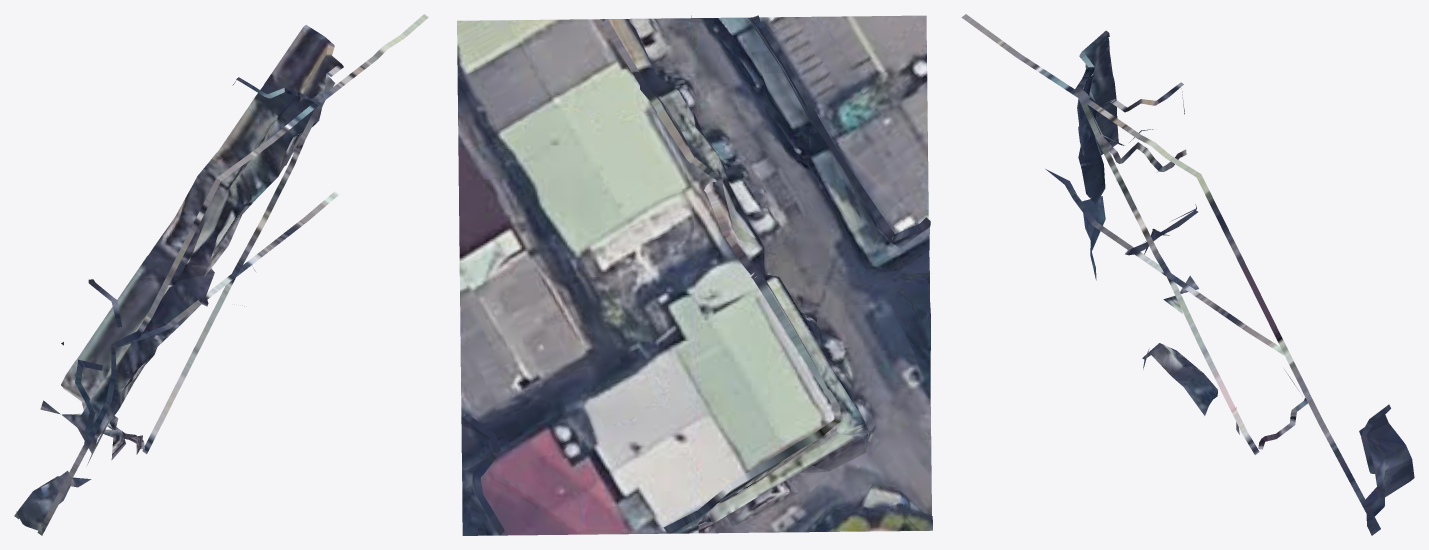
3 views of the same model, side by side, from view 1: azimuth 30°, elevation 25°; view 2: azimuth 150°, elevation 25°; view 3: azimuth 270°, elevation 25° (orthographic). The views are drawn at different scales.
Bounding box in the file's own units: 39.21 × 37.3 × 35.13.
1 material, 1 textured.
